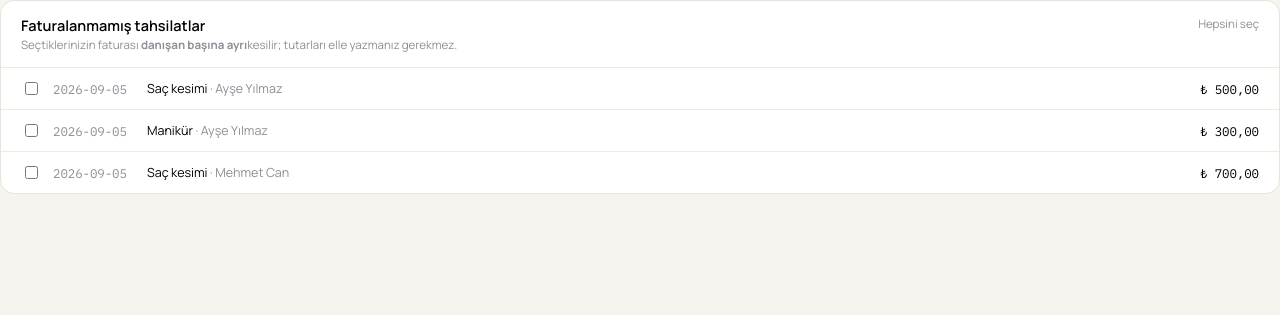
Test: TahsilattanKes › bir kısmı kesilirse kaçının kesildiğini söylüyor
The image size is (1280, 315).
Click the button "Hepsini seç".
click(1229, 24)  # box [1198,16,1259,31]
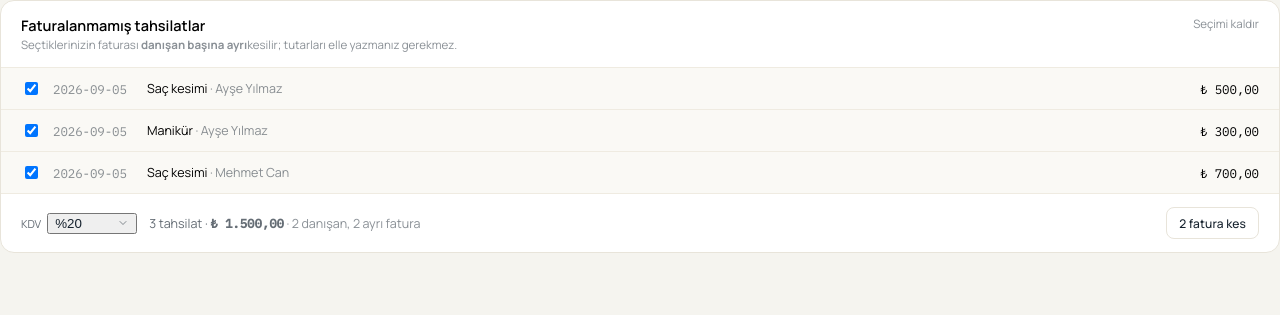
Click the button "2 fatura kes".
click(1213, 223)  # box [1166,207,1259,239]
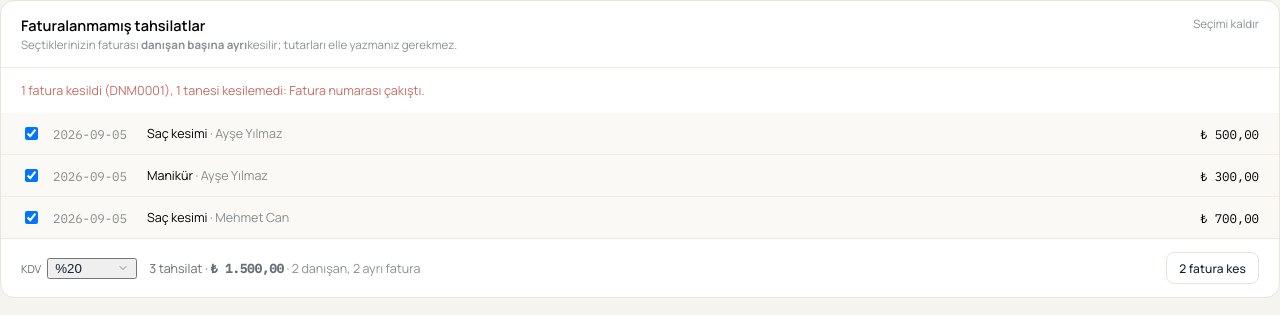
Expected: the text "1 tanesi kesilemedi" is shown, [21,82,425,99]
